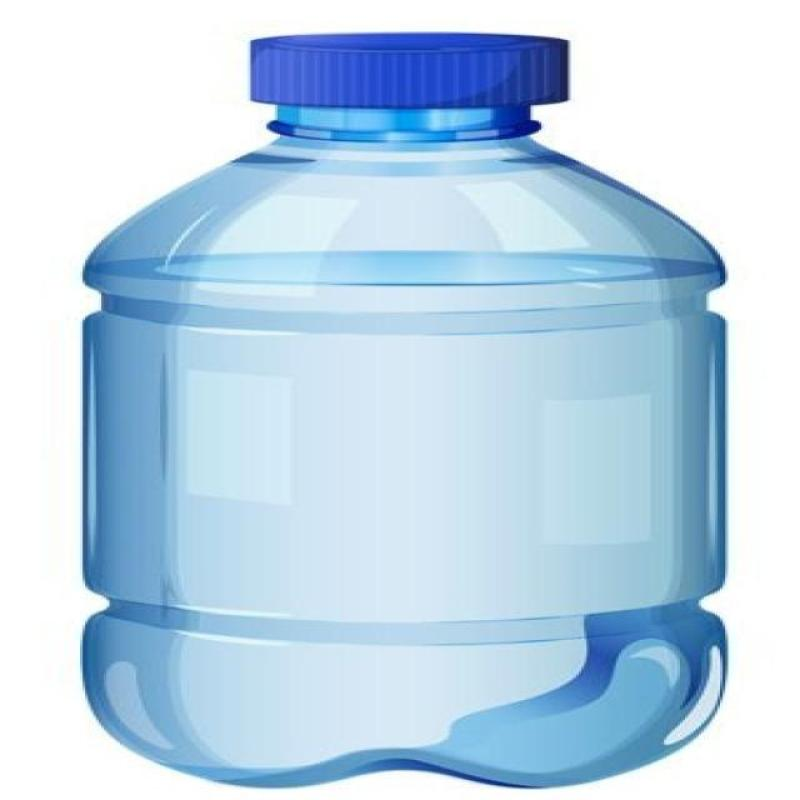botella: (73, 34, 735, 788)
